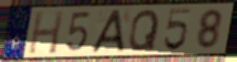5: (162, 7, 193, 53), (65, 10, 93, 53)
8: (196, 7, 225, 50)
A: (90, 8, 126, 54)
H: (26, 9, 66, 55)
Q: (127, 8, 162, 53)
